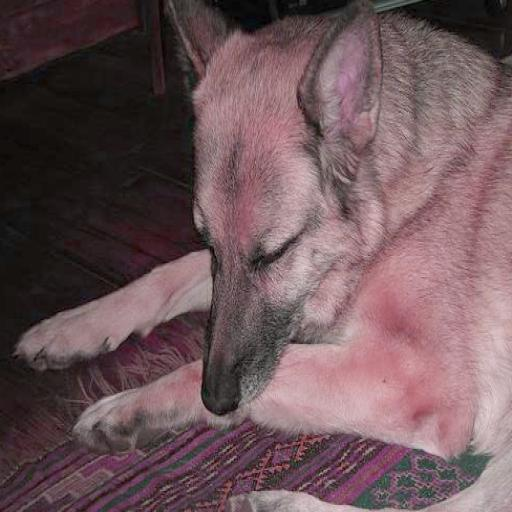dog_face: (164, 3, 375, 435)
